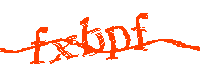b: (80, 14, 105, 58)
f: (131, 9, 150, 53), (31, 26, 47, 65)
p: (105, 23, 130, 61)
x: (50, 35, 78, 63)
